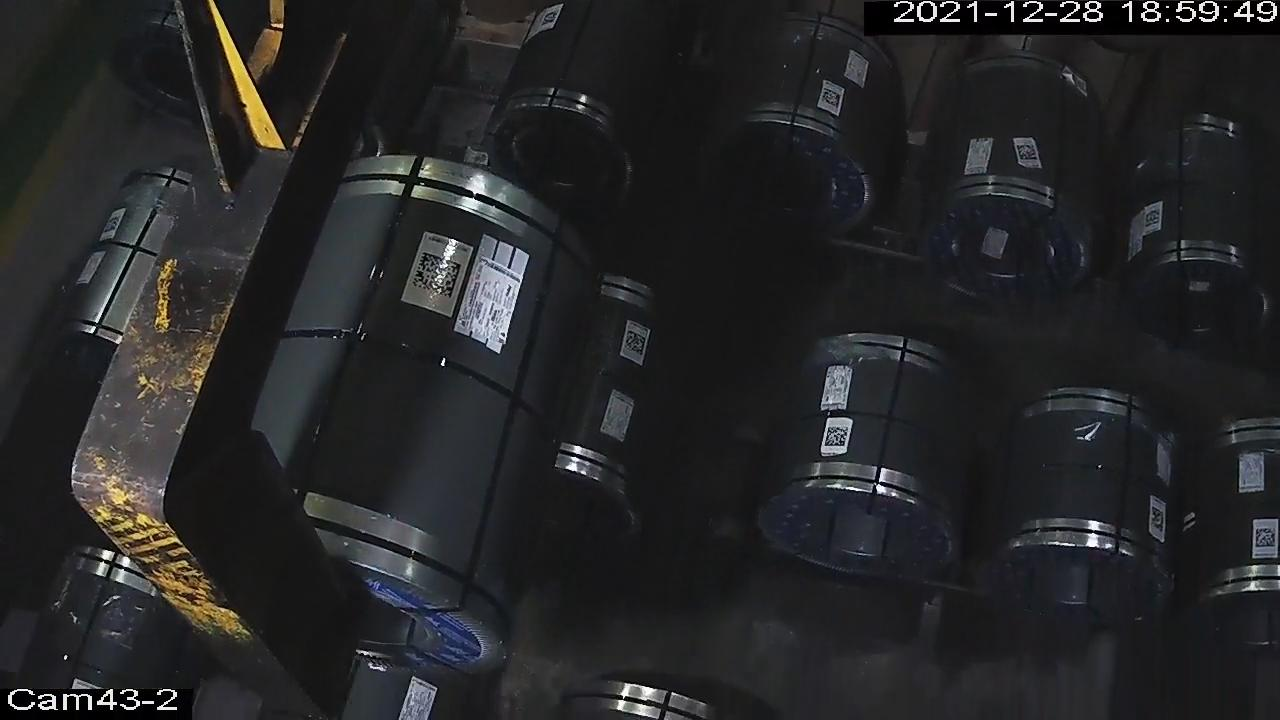data matrix: (407, 248, 468, 301), (622, 328, 650, 358), (823, 424, 853, 450), (1013, 142, 1042, 165), (1254, 526, 1279, 550), (820, 87, 845, 110), (1148, 506, 1168, 533), (541, 8, 562, 30), (1143, 209, 1165, 230)
